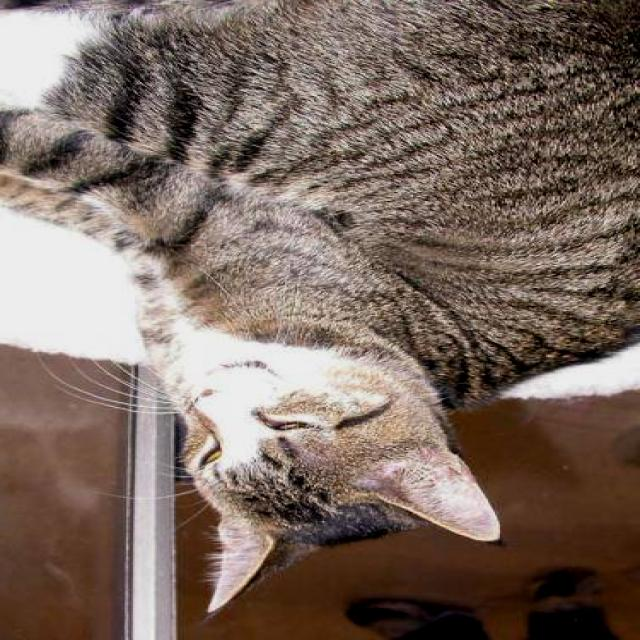Kucing: (0, 10, 604, 614)
